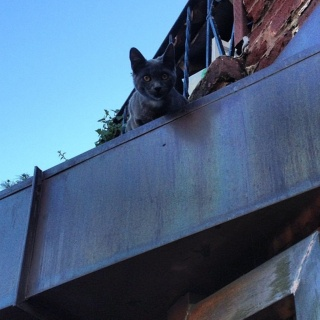Cat: (127, 42, 185, 130)
